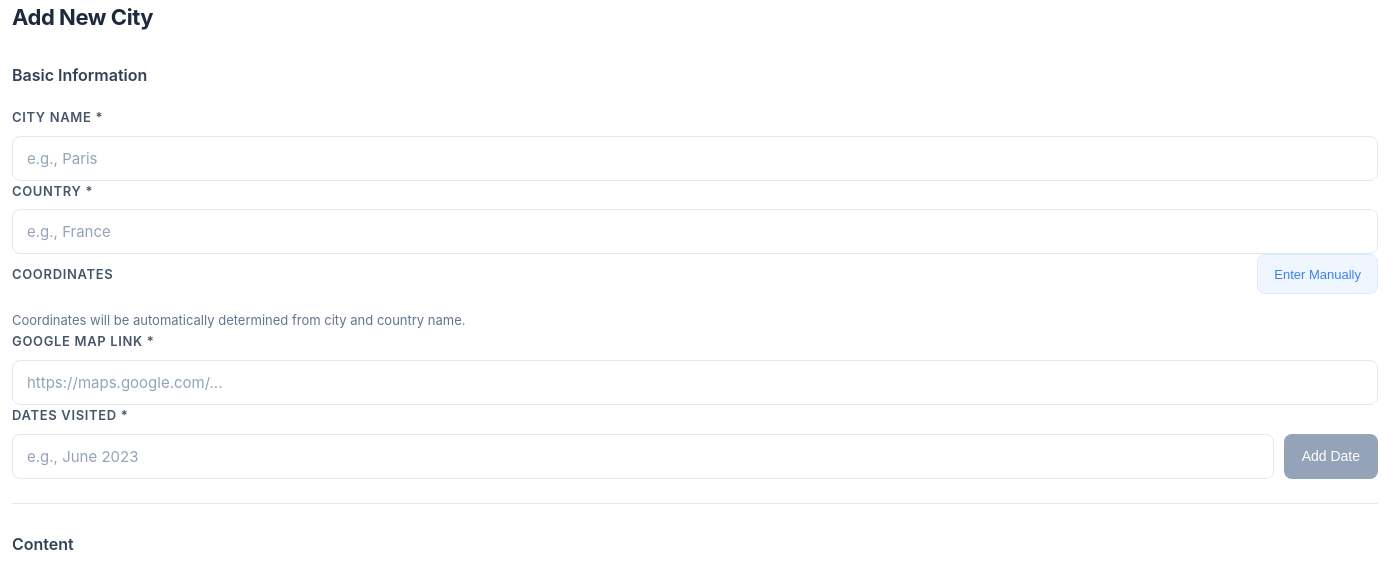
Test: CityForm › allows adding date by pressing Enter key
// Add date with Enter key
Type "June 2023" into the field labelled "Dates Visited *" at [643, 456], box [12, 434, 1274, 479]
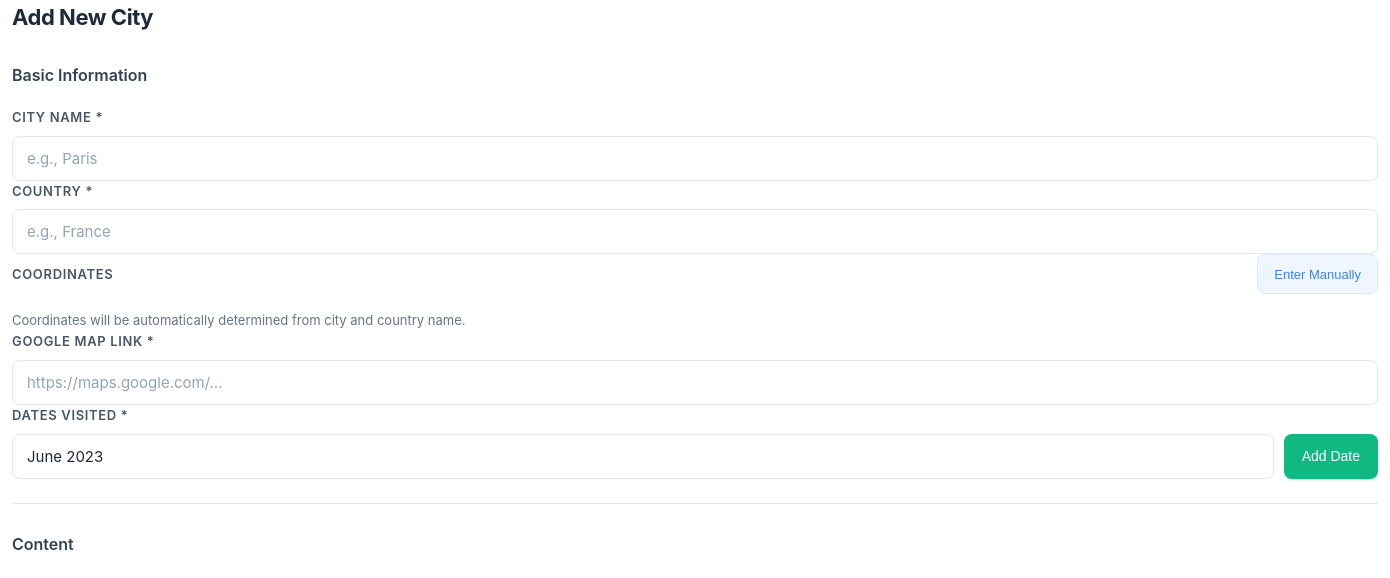
Press Enter in the field labelled "Dates Visited *", box [12, 434, 1274, 479]
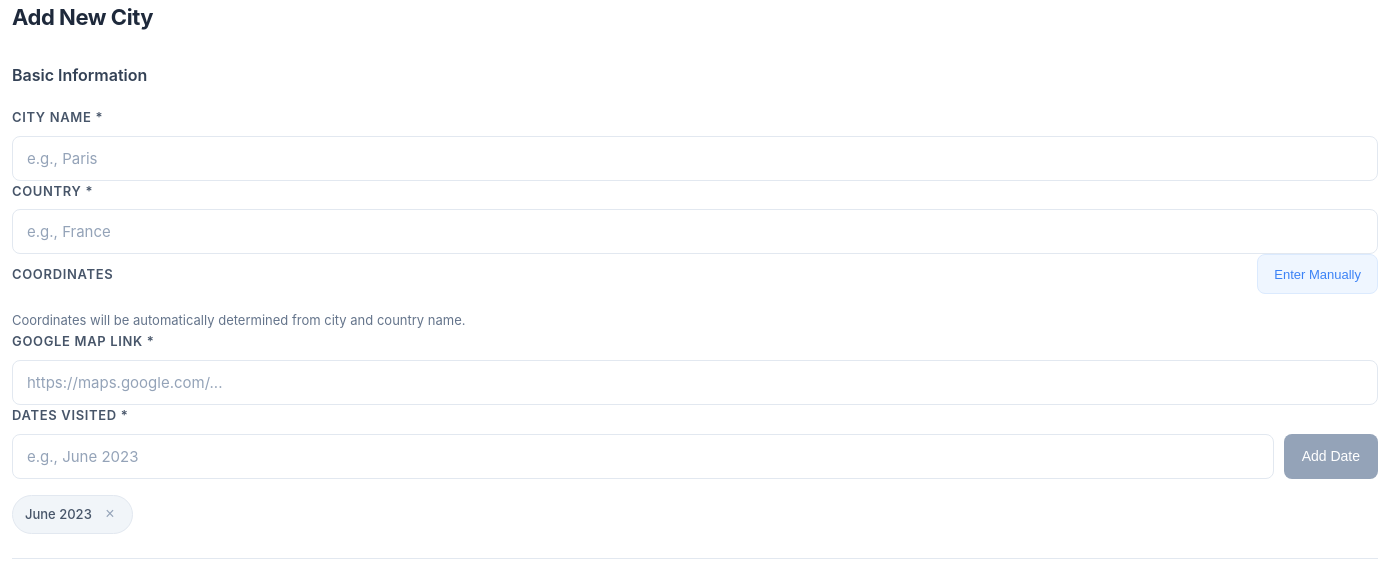
Result: the text "June 2023" is shown at [25, 504, 92, 525]
Result: the field labelled "Dates Visited *" is empty at [12, 434, 1274, 479]
